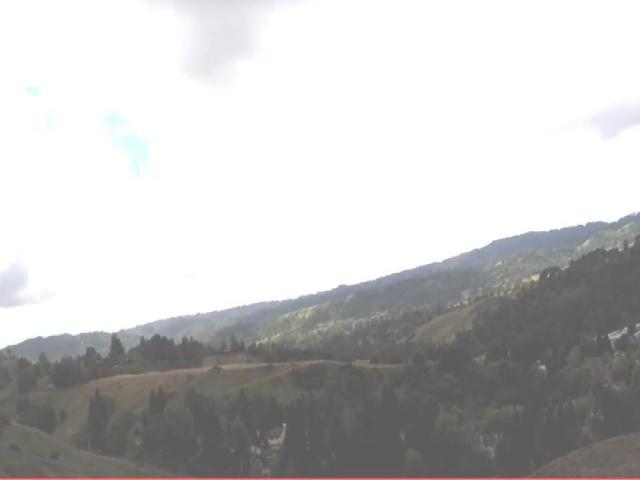iha: (130, 154, 150, 192)
